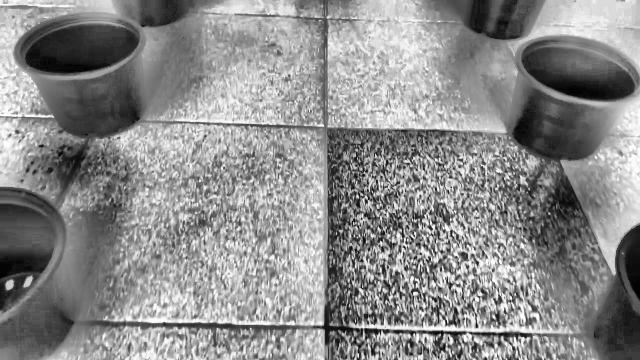pot: (12, 12, 149, 138), (506, 36, 640, 161)
